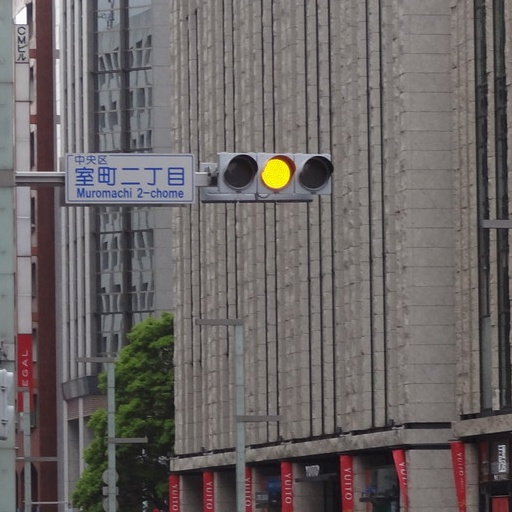Traffic_Signal_Yellow: (209, 145, 335, 196)
